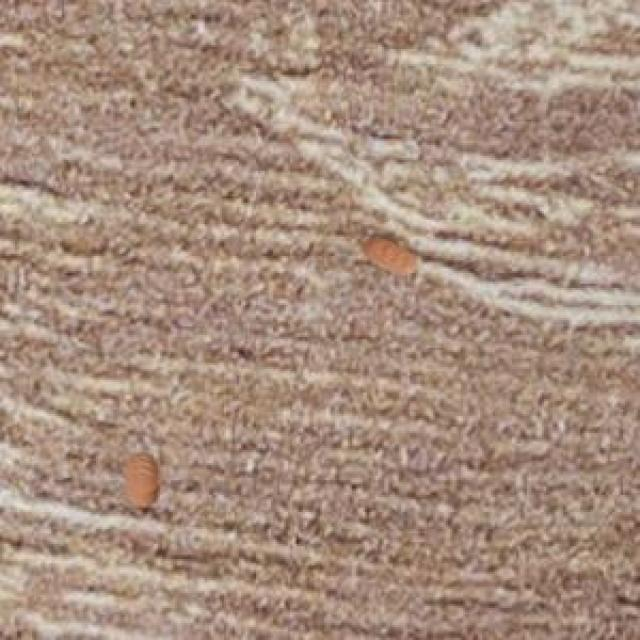Biogesic: (94, 432, 184, 526), (341, 215, 435, 291)
